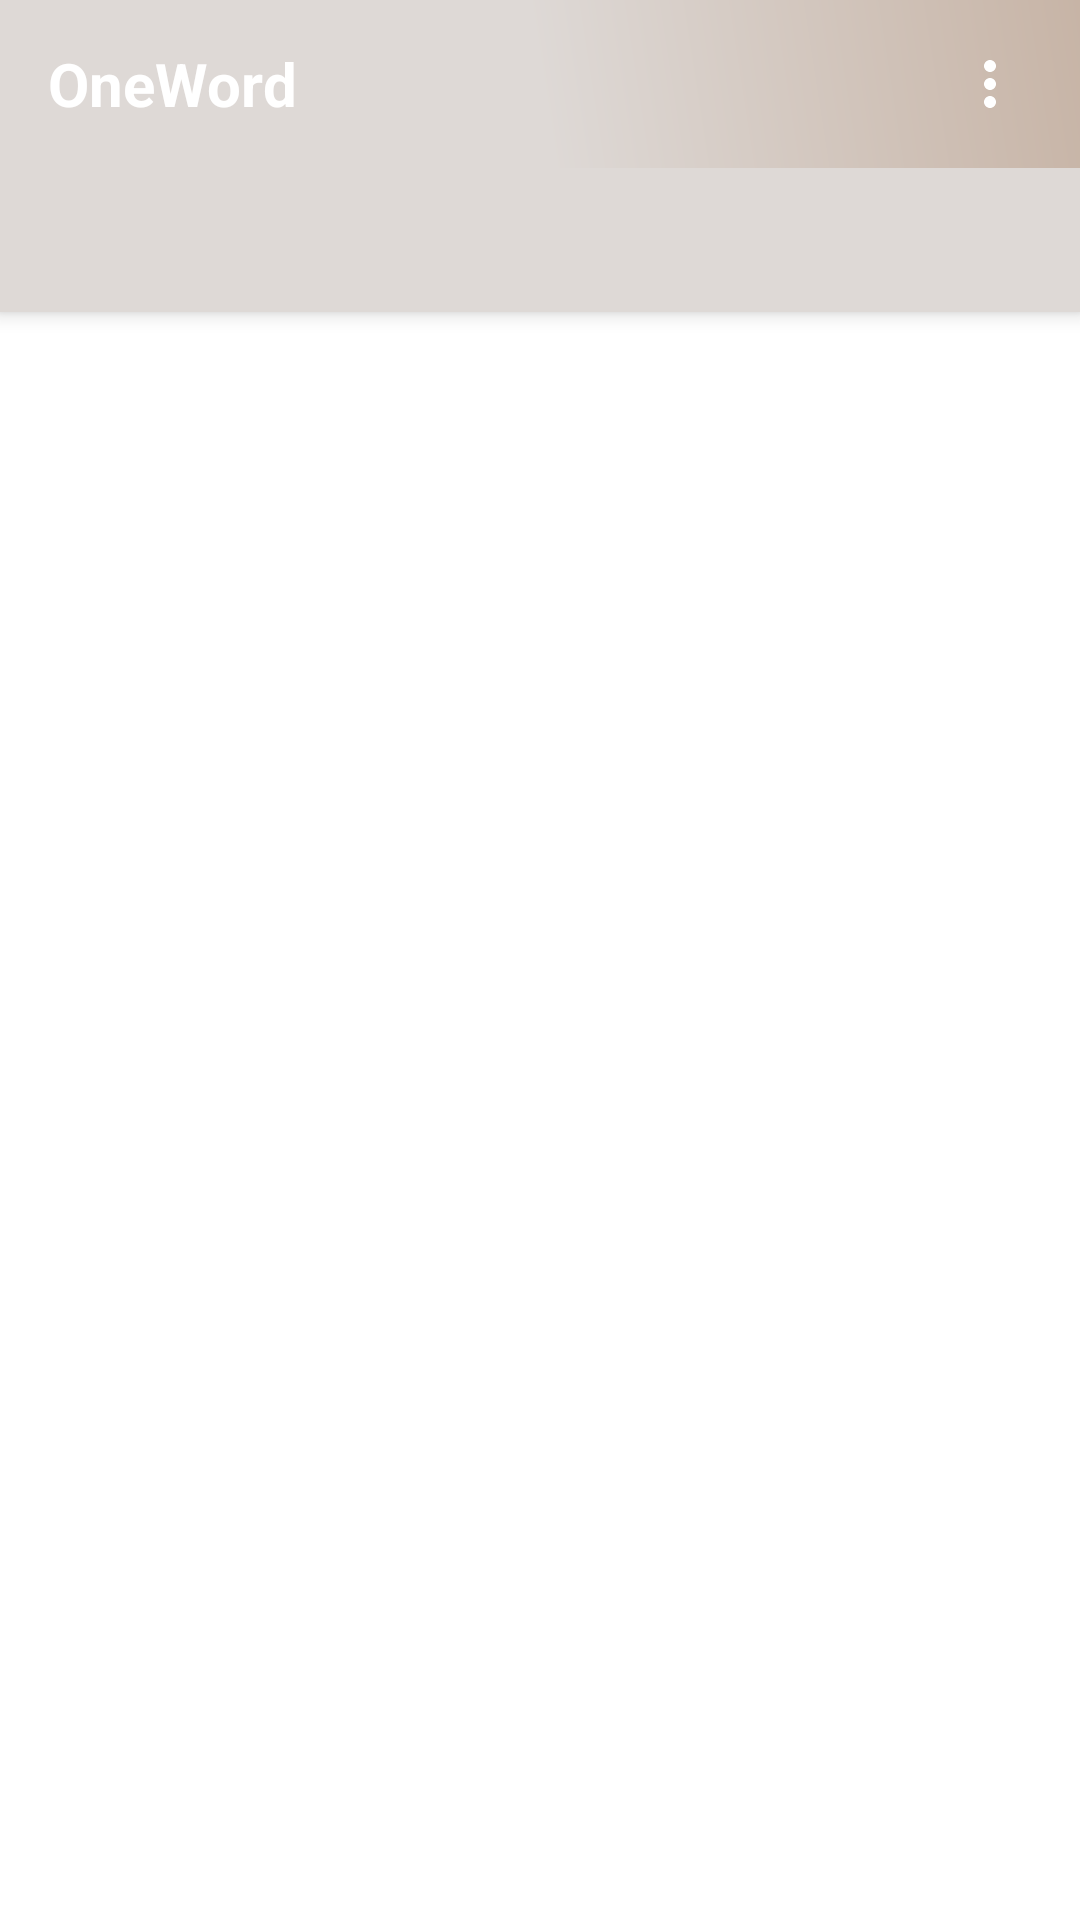

Screen size 1080 x 1920. Icon name, then its box in pixels as (x1,y1,x2,y2):
more: (984,60,996,108)
